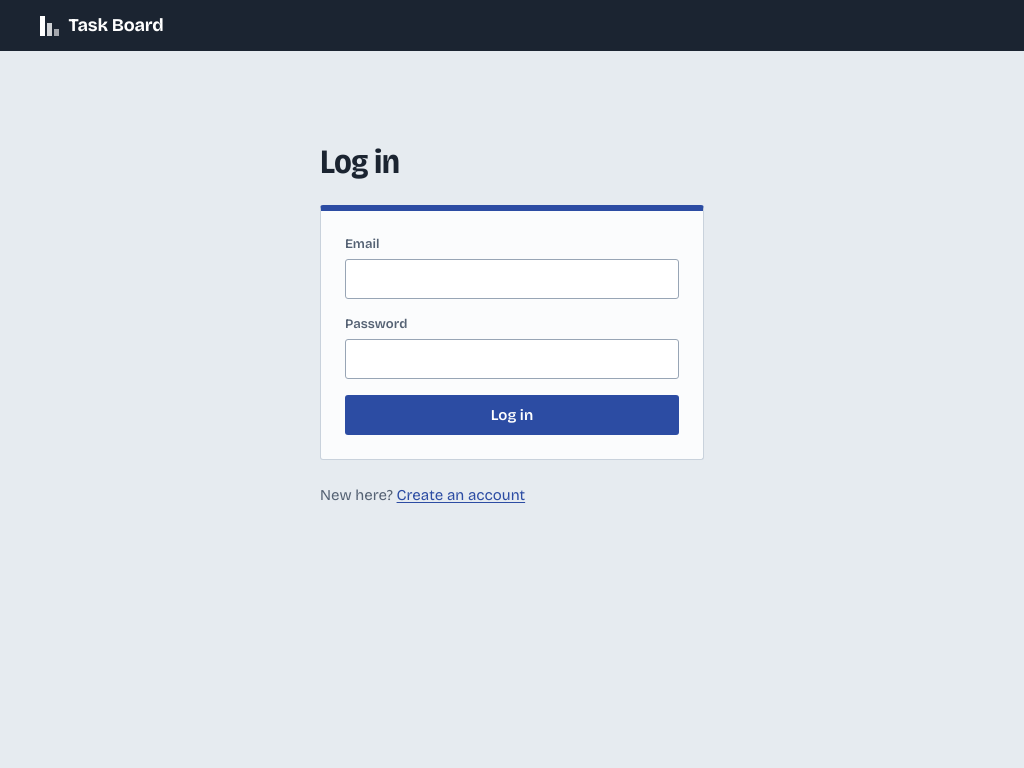
it: login form › toasts the server's message when credentials are wrong and stays on the form
The width and height of the screenshot is (1024, 768).
Type "alice@example.com" into the field labelled "Email".
click(512, 279); type("alice@example.com")  # box 345,259 -> 679,299
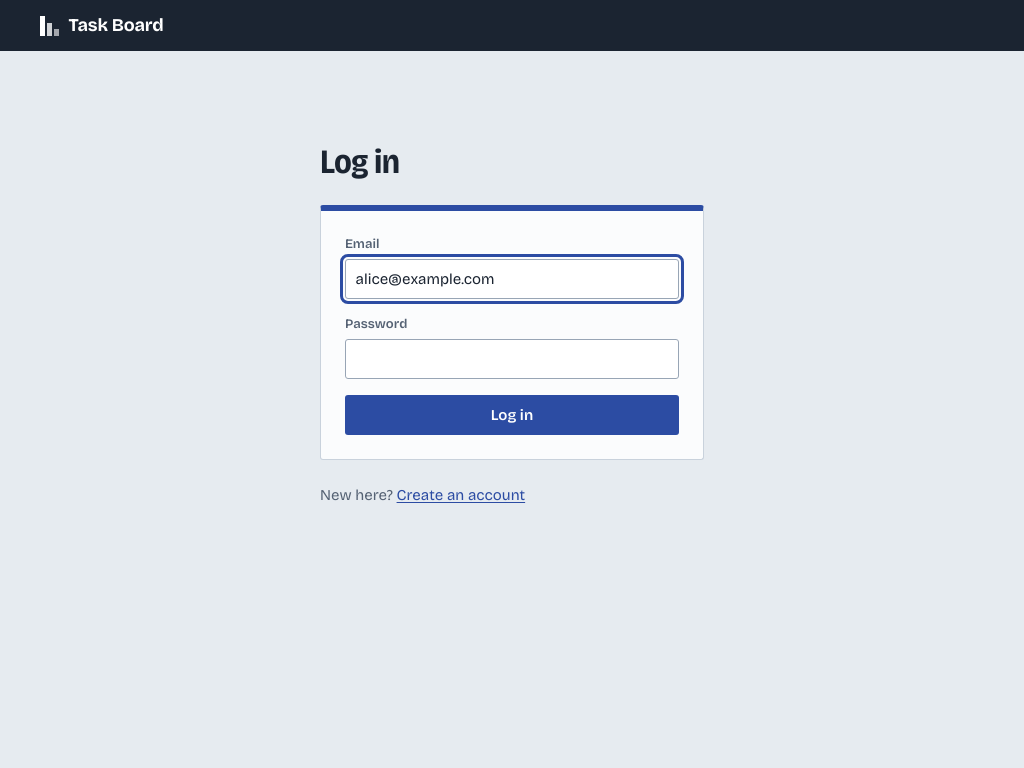
Type "wrong-password" into the password field labelled "Password".
click(512, 359); type("wrong-password")  # box 345,339 -> 679,379
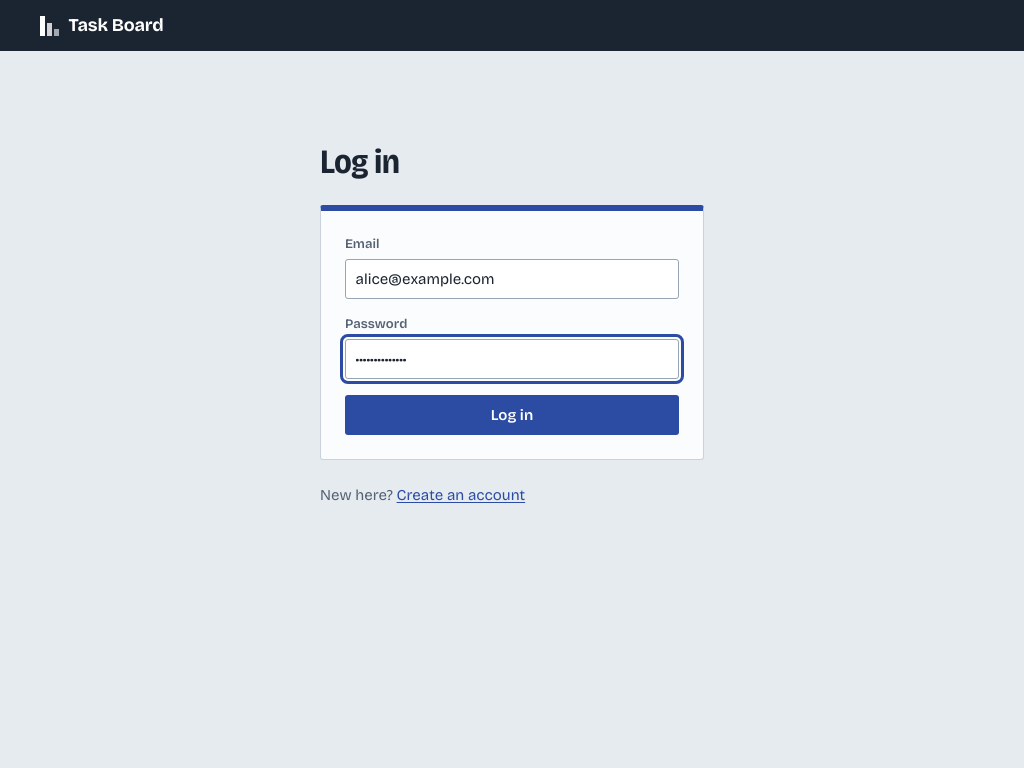
Click the button "Log in".
click(512, 415)  # box 345,395 -> 679,435
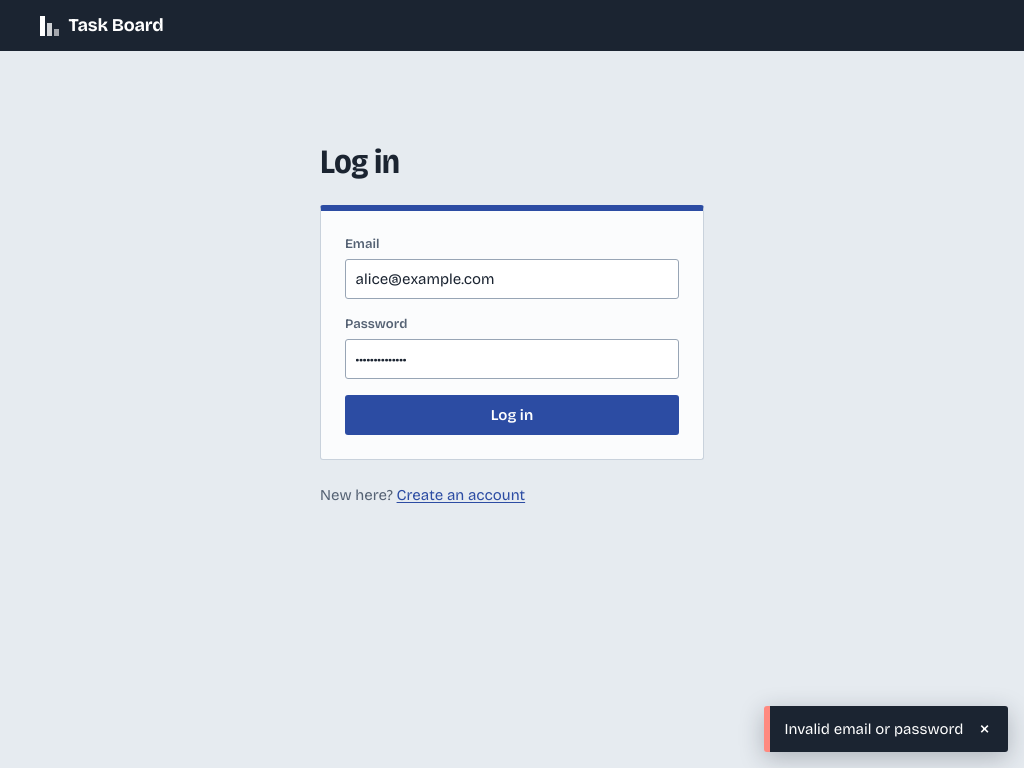
Expected: the heading "Log in" is shown, 320,141 -> 399,182
Expected: the message shows "Invalid email or password", 784,720 -> 964,738
